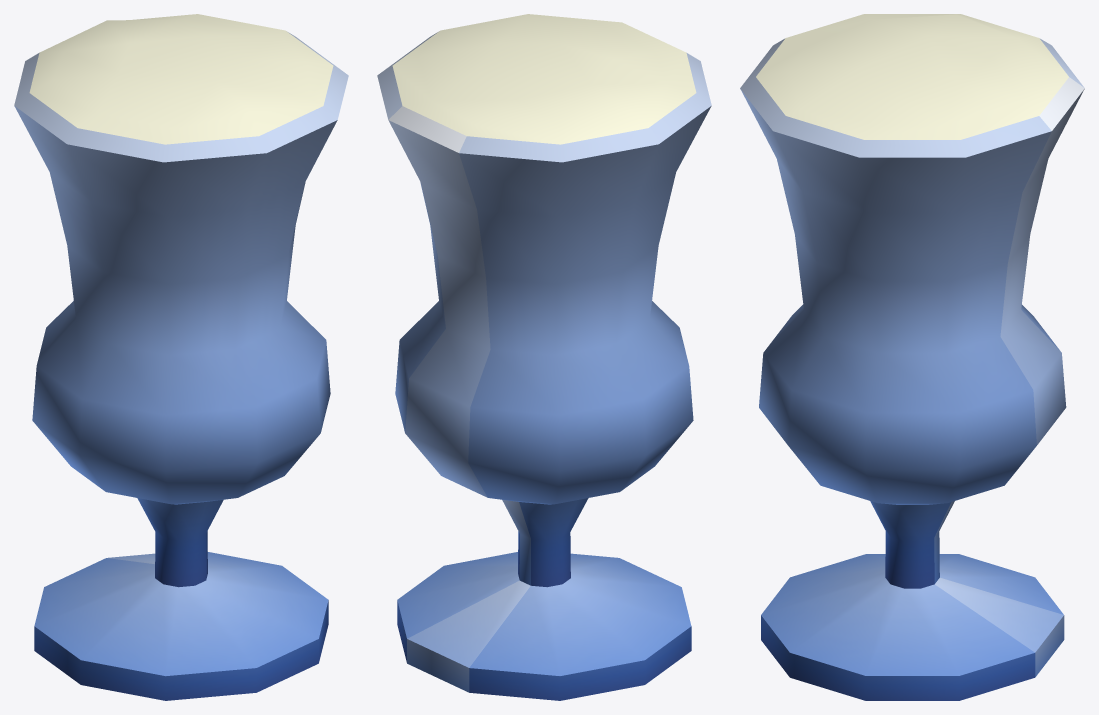
The model's file is m_ScotchAleBeer01.fbx.
3 renders of one model, left to right at view 1: azimuth 30°, elevation 25°; view 2: azimuth 150°, elevation 25°; view 3: azimuth 270°, elevation 25°, orthographic.
Parts seen in each view (by area): view 1: m_ScotchAleBeer01; view 2: m_ScotchAleBeer01; view 3: m_ScotchAleBeer01.
Part boxes in pixels (left/top/right/bottom): m_ScotchAleBeer01: left=14, top=14, right=348, bottom=700; m_ScotchAleBeer01: left=377, top=14, right=711, bottom=700; m_ScotchAleBeer01: left=740, top=14, right=1084, bottom=700.
Bounding box in the file's own units: 11.9 × 23.15 × 12.51.
